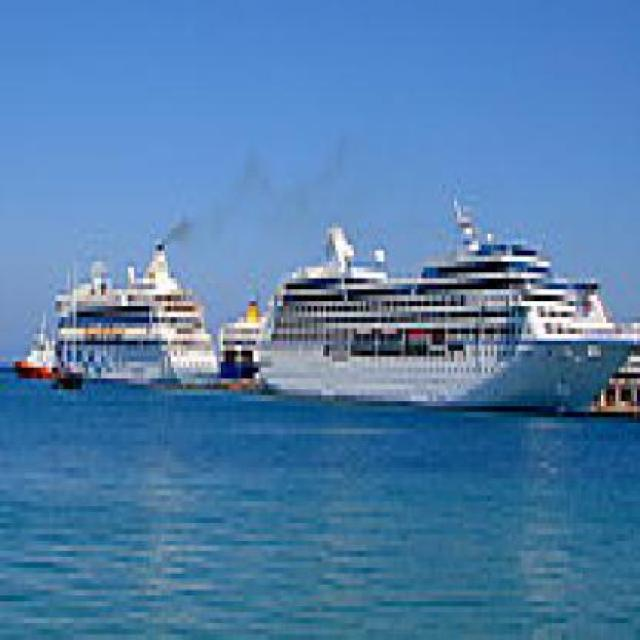cruise: (263, 240, 631, 413), (40, 251, 242, 391)
